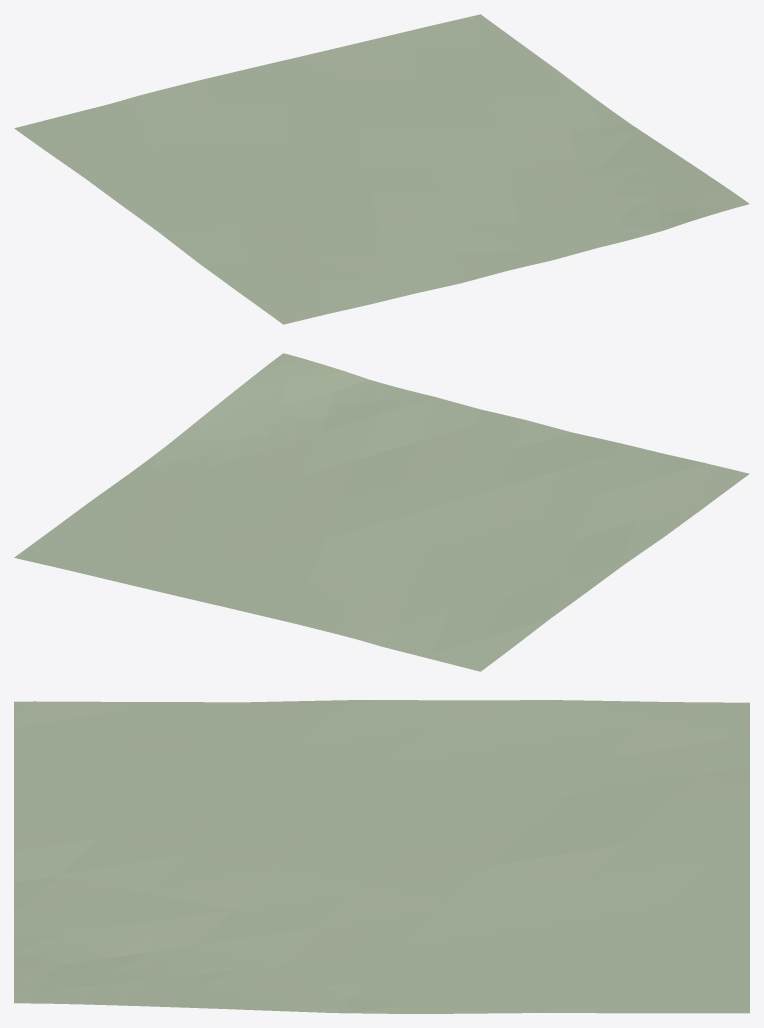
File: SM_MPRR_Terrain_3_0.fbx
3 views of the same model, one above another, from view 1: azimuth 30°, elevation 25°; view 2: azimuth 150°, elevation 25°; view 3: azimuth 270°, elevation 25° (orthographic). The views are drawn at different scales.
Visible parts, largest first — view 1: SM_MPRR_Terrain_3_0; view 2: SM_MPRR_Terrain_3_0; view 3: SM_MPRR_Terrain_3_0.
Boxes of the visible parts, x1,y1,x2,y2 form: SM_MPRR_Terrain_3_0: [14, 14, 749, 324]; SM_MPRR_Terrain_3_0: [14, 353, 749, 671]; SM_MPRR_Terrain_3_0: [14, 700, 749, 1013].
Size of the model in its own units: 15000 by 15000 by 271.
